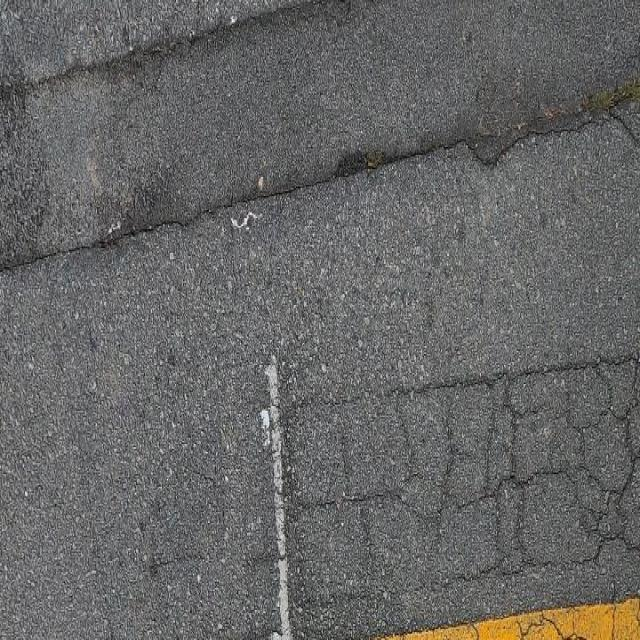cracks: (0, 0, 639, 298), (190, 321, 640, 638)
